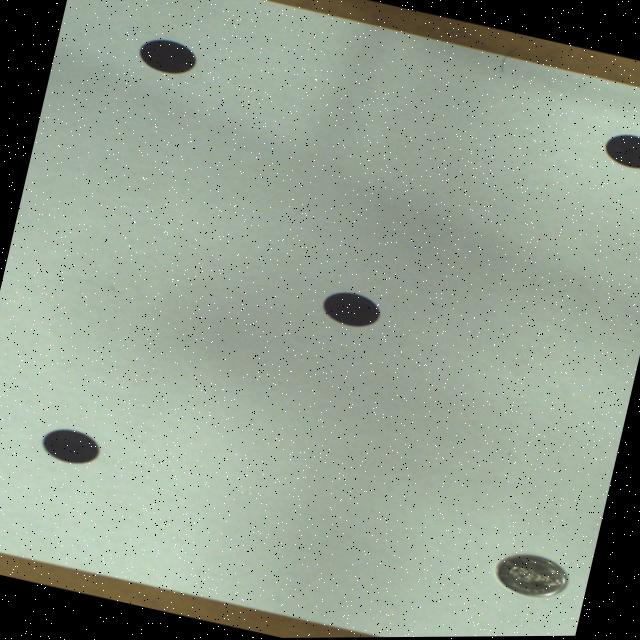space: (140, 39, 195, 74), (323, 292, 378, 327), (43, 429, 98, 463), (604, 136, 640, 169)
tail1bath: (496, 555, 565, 598)
